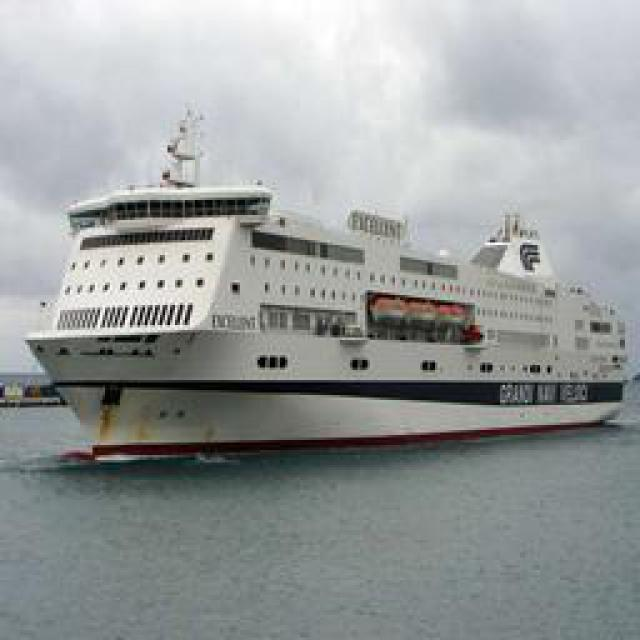Ship: (34, 143, 624, 451)
